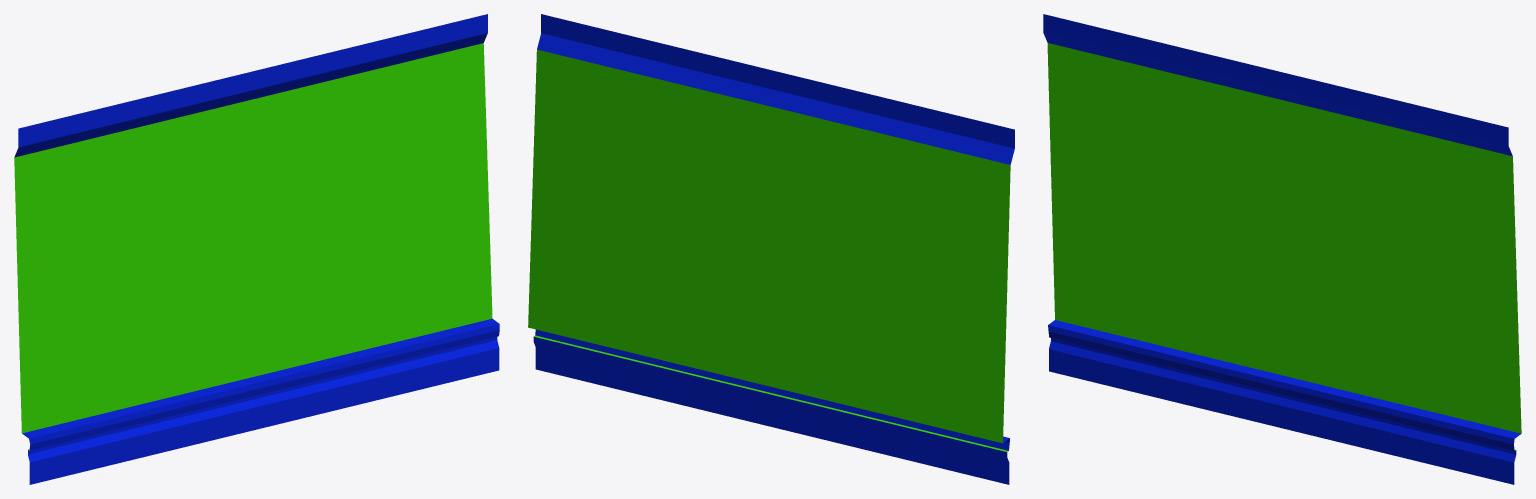
File: Wall.fbx
3 renders of one model, left to right at view 1: azimuth 30°, elevation 25°; view 2: azimuth 150°, elevation 25°; view 3: azimuth 330°, elevation 25°, orthographic.
Visible parts, largest first — view 1: Plane; view 2: Plane; view 3: Plane.
Boxes of the visible parts, bbox=[...] form: Plane: bbox=[14, 14, 499, 484]; Plane: bbox=[528, 14, 1014, 484]; Plane: bbox=[1043, 14, 1521, 484].
Bounding box in the file's own units: 4448 × 3167 × 121.
